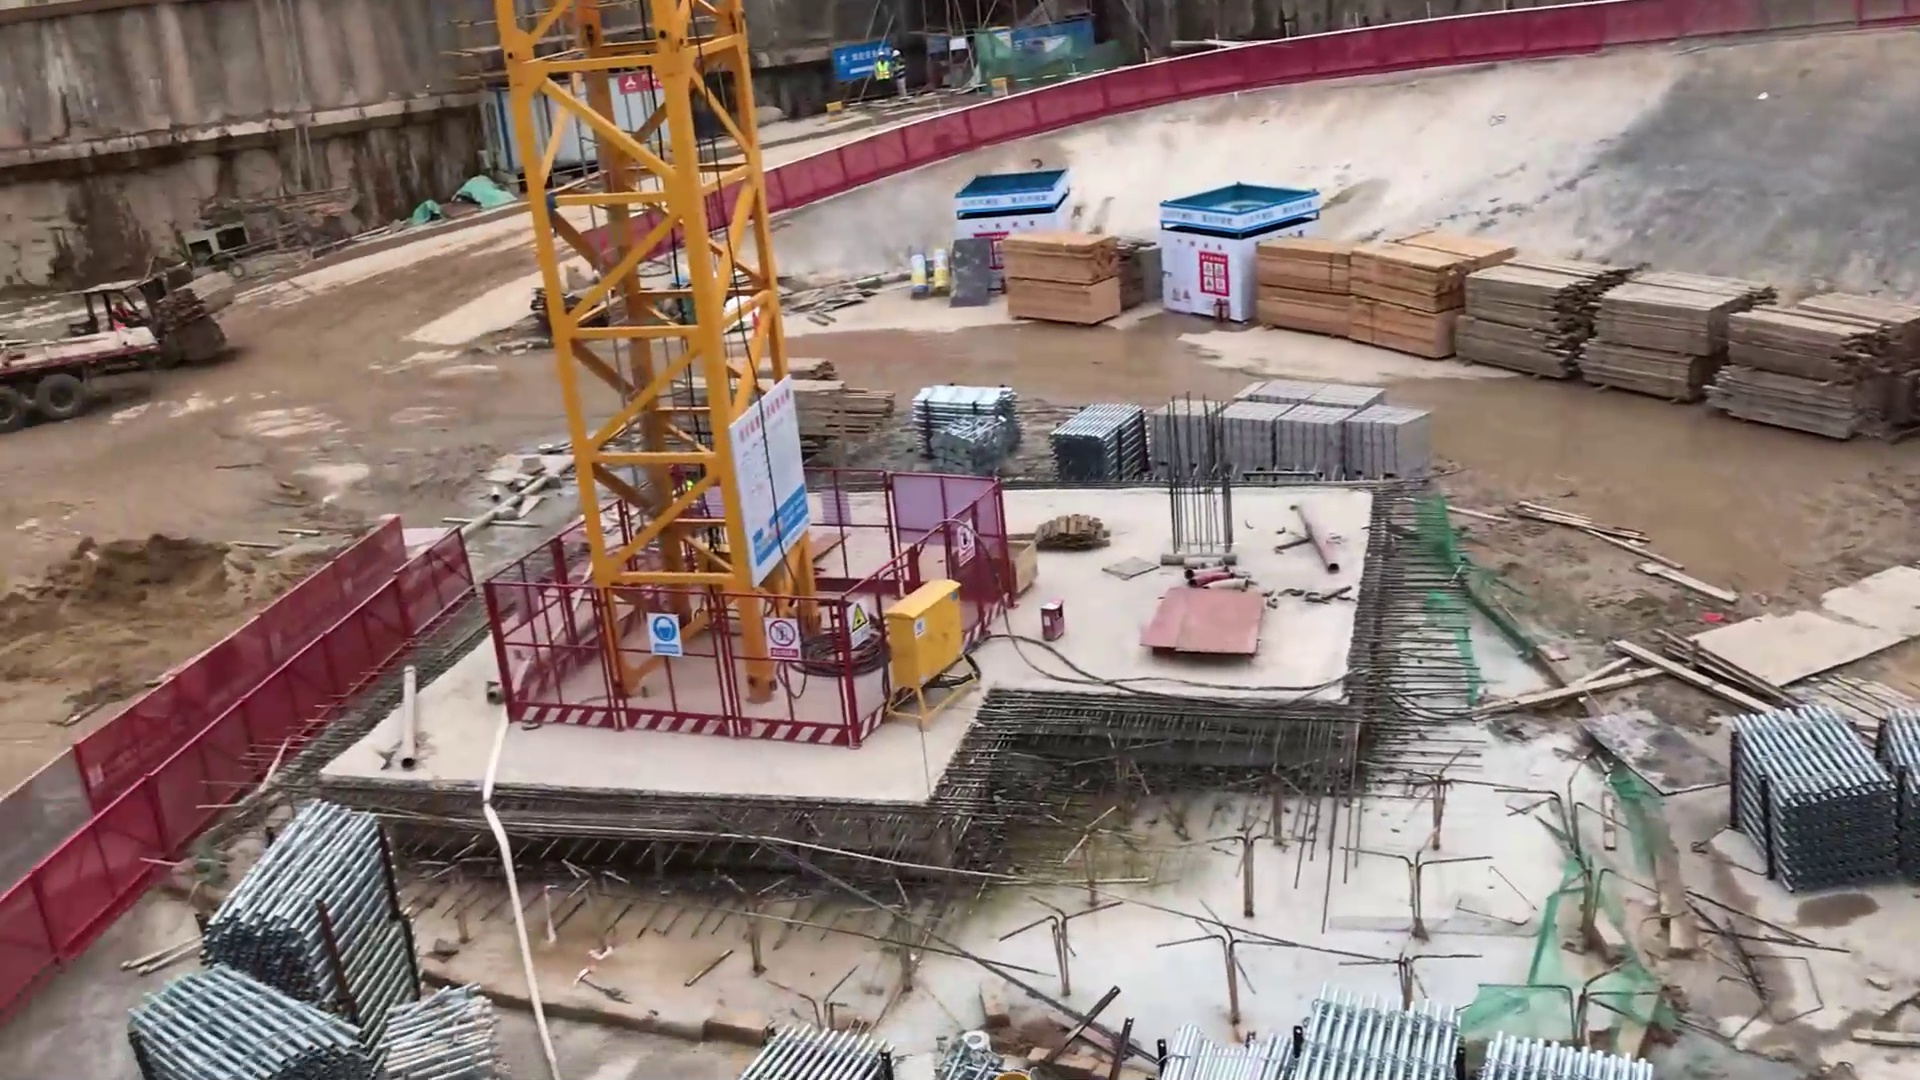board: (1133, 581, 1275, 661)
brick: (1212, 389, 1297, 492), (1271, 396, 1365, 487), (1344, 400, 1432, 491), (1236, 371, 1393, 416), (1149, 396, 1226, 480)
ebox: (888, 574, 975, 734)
fence: (129, 520, 477, 812), (489, 570, 844, 746), (1133, 5, 1559, 99)
person: (889, 48, 910, 97), (872, 52, 892, 96)
scaffold: (128, 794, 469, 981), (1711, 700, 1910, 908), (114, 972, 367, 1080), (1296, 978, 1471, 1080), (375, 994, 493, 1080), (725, 1022, 893, 1080), (904, 386, 1028, 463), (1051, 400, 1152, 492), (1166, 1027, 1294, 1080)
slogan: (728, 370, 822, 588), (643, 607, 688, 671), (1192, 241, 1236, 304), (761, 613, 810, 664), (843, 592, 878, 649), (953, 518, 984, 572)
wood: (1741, 271, 1920, 452), (1258, 231, 1469, 362), (1600, 257, 1733, 404), (1484, 252, 1591, 397), (998, 228, 1125, 337), (791, 356, 904, 470)
